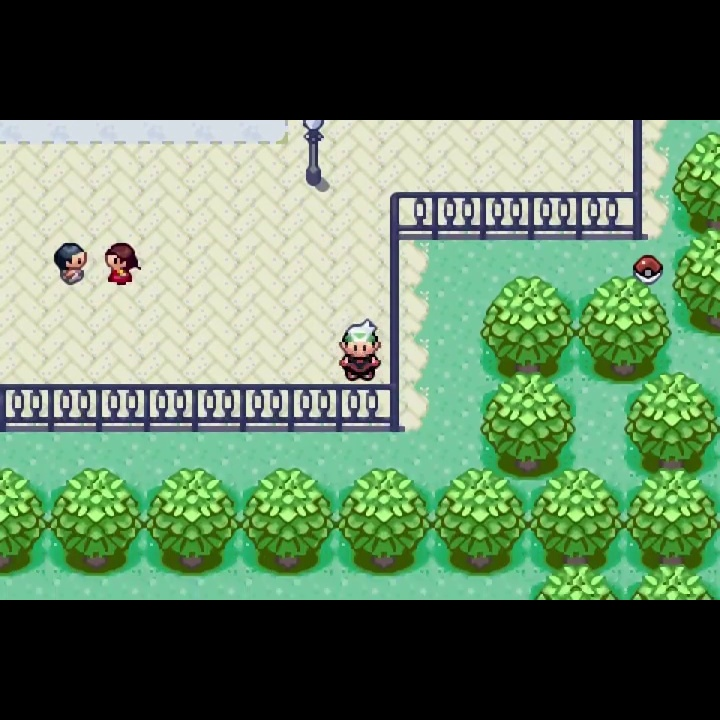npc: (336, 316, 384, 384), (50, 238, 92, 287), (103, 240, 144, 289)
wall: (143, 467, 242, 579), (624, 467, 720, 581), (433, 467, 529, 580), (338, 467, 433, 581), (242, 467, 337, 580), (529, 467, 623, 579), (49, 467, 143, 578), (479, 273, 576, 379), (577, 273, 672, 378), (624, 372, 720, 471), (479, 373, 576, 469), (1, 467, 48, 578), (673, 229, 720, 340), (673, 132, 720, 231), (624, 564, 720, 600), (528, 565, 624, 600)
